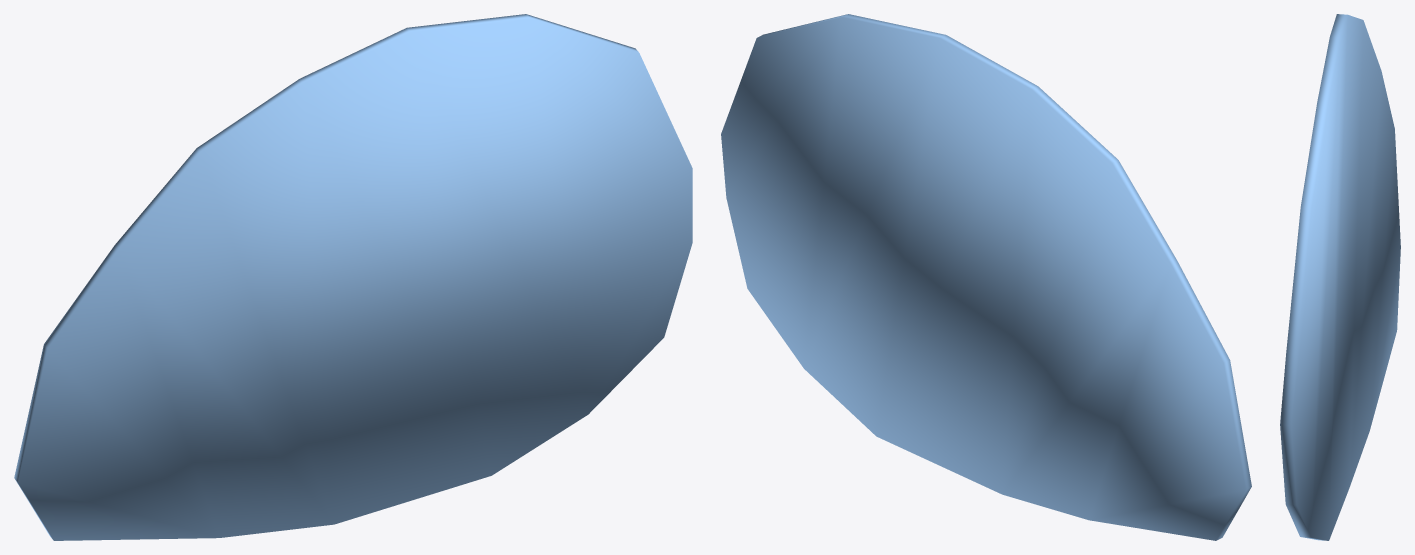
The model's file is Wing_R.obj.
The picture shows the model from 3 angles, left to right: view 1: azimuth 30°, elevation 25°; view 2: azimuth 150°, elevation 25°; view 3: azimuth 270°, elevation 25°; orthographic projection. The views are drawn at different scales.
Parts seen in each view (by area): view 1: C_Wing_R; view 2: C_Wing_R; view 3: C_Wing_R.
Part boxes in pixels (box(x1,y1,x2,y2)): C_Wing_R: box(14, 14, 692, 540); C_Wing_R: box(721, 14, 1251, 540); C_Wing_R: box(1280, 14, 1400, 540).
Bounding box in the file's own units: 1.49 × 1.09 × 0.2443.
1 material, 1 textured.
